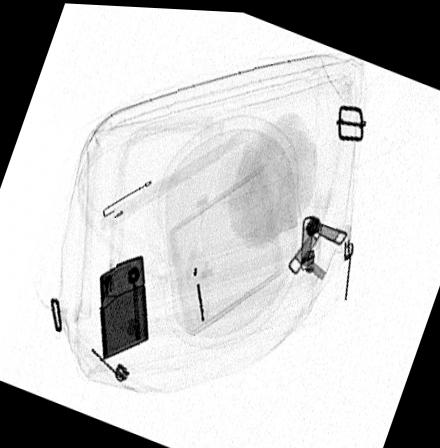Lighter: (98, 252, 149, 358)
